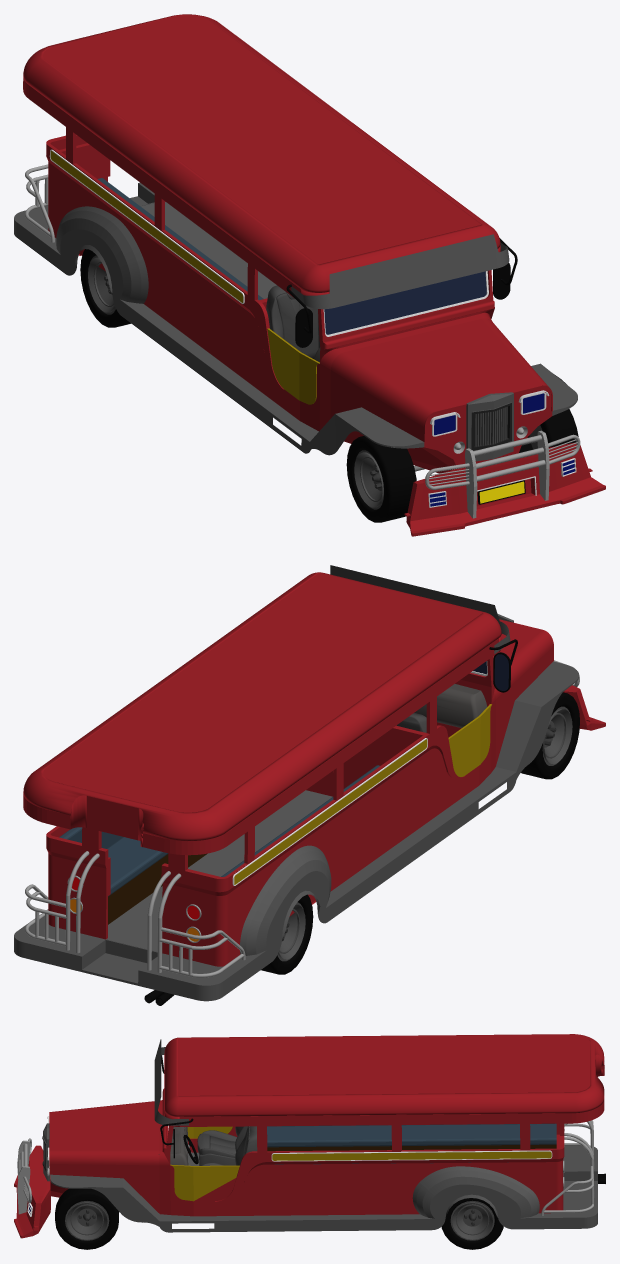
The model's file is AI Jeep.fbx.
3 views of the same model, one above another, from view 1: azimuth 30°, elevation 25°; view 2: azimuth 150°, elevation 25°; view 3: azimuth 270°, elevation 25° (orthographic). The views are drawn at different scales.
Parts seen in each view (by area): view 1: Roof, Jeep, Side Metal, Bumper, Roof Panel, Wheel 1, Window, Front Grill, Window Frame, Nose, Side, Floor (+8 smaller); view 2: Roof, Jeep, Side Metal, Floor, Back Grills, Chair Right 8, Wheel 1, Side, Roof Panel, Wheel 4, Door 1.001, Dashboard (+3 smaller); view 3: Roof, Jeep, Side Metal, Chair Right 8, Wheel 2, Side, Wheel 3, Front Seat 1, Bumper, Door 1, Back Grills, Front Grill (+5 smaller).
Part boxes in pixels (bbox=[...]): Roof: bbox=[23, 14, 500, 298]; Jeep: bbox=[46, 127, 552, 473]; Side Metal: bbox=[14, 182, 577, 455]; Bumper: bbox=[404, 442, 605, 536]; Roof Panel: bbox=[291, 234, 509, 309]; Wheel 1: bbox=[346, 436, 416, 522]; Window: bbox=[324, 271, 486, 334]; Front Grill: bbox=[425, 430, 580, 518]; Window Frame: bbox=[318, 270, 494, 349]; Nose: bbox=[466, 392, 513, 461]; Side: bbox=[49, 149, 244, 303]; Floor: bbox=[141, 202, 276, 298]; Roof: bbox=[23, 572, 501, 855]; Jeep: bbox=[46, 619, 553, 966]; Side Metal: bbox=[14, 661, 579, 1001]; Floor: bbox=[106, 790, 332, 952]; Back Grills: bbox=[25, 851, 245, 977]; Chair Right 8: bbox=[59, 765, 379, 924]; Wheel 1: bbox=[521, 692, 579, 779]; Side: bbox=[51, 738, 427, 885]; Roof Panel: bbox=[330, 565, 510, 653]; Wheel 4: bbox=[261, 894, 313, 974]; Door 1.001: bbox=[448, 704, 491, 776]; Dashboard: bbox=[414, 684, 487, 727]; Roof: bbox=[164, 1034, 604, 1126]; Jeep: bbox=[49, 1066, 602, 1216]; Side Metal: bbox=[50, 1145, 597, 1232]; Chair Right 8: bbox=[267, 1123, 556, 1164]; Wheel 2: bbox=[55, 1188, 118, 1249]; Side: bbox=[271, 1150, 552, 1161]; Wheel 3: bbox=[441, 1198, 503, 1249]; Front Seat 1: bbox=[197, 1126, 257, 1165]; Bumper: bbox=[14, 1145, 50, 1238]; Door 1: bbox=[170, 1164, 239, 1201]; Back Grills: bbox=[541, 1120, 594, 1215]; Front Grill: bbox=[17, 1138, 31, 1214].
Size of the model in its own units: 265 by 251 by 878.
